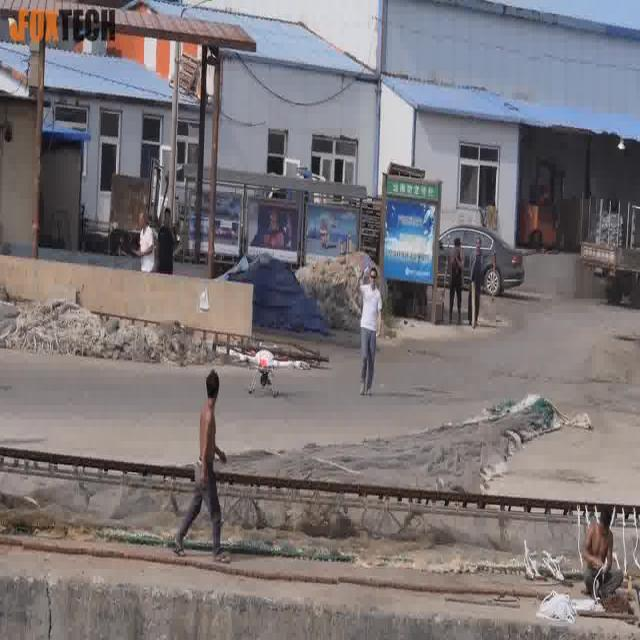drone: (226, 338, 311, 399)
